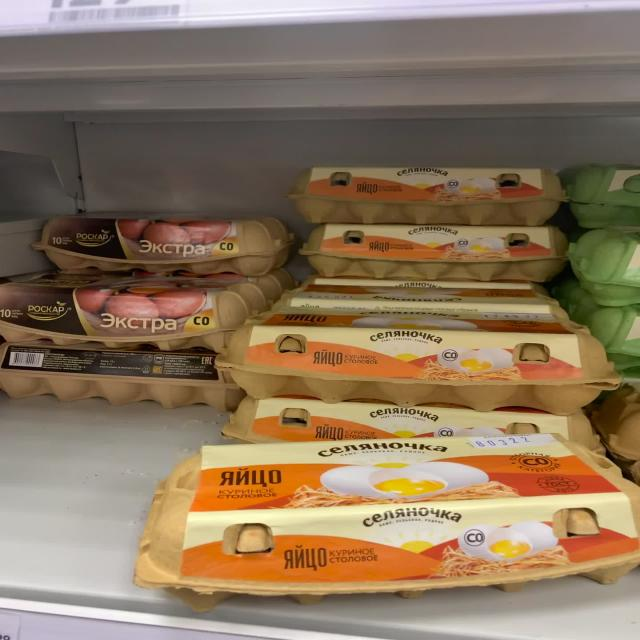egg box: (132, 438, 638, 596), (228, 321, 612, 401), (2, 274, 236, 364), (38, 206, 296, 284), (300, 160, 567, 228), (297, 225, 565, 284)
